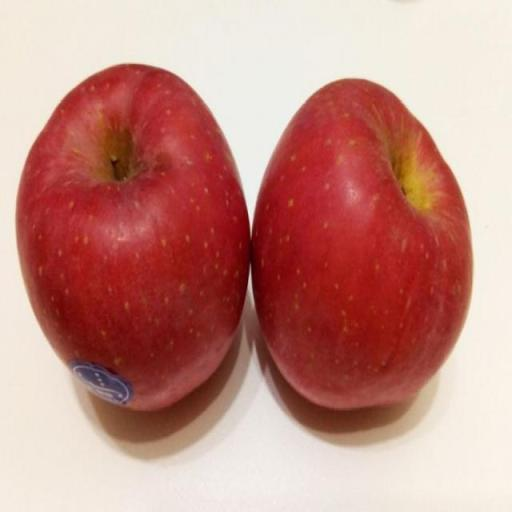fruit: (16, 64, 248, 409), (252, 80, 470, 408)
